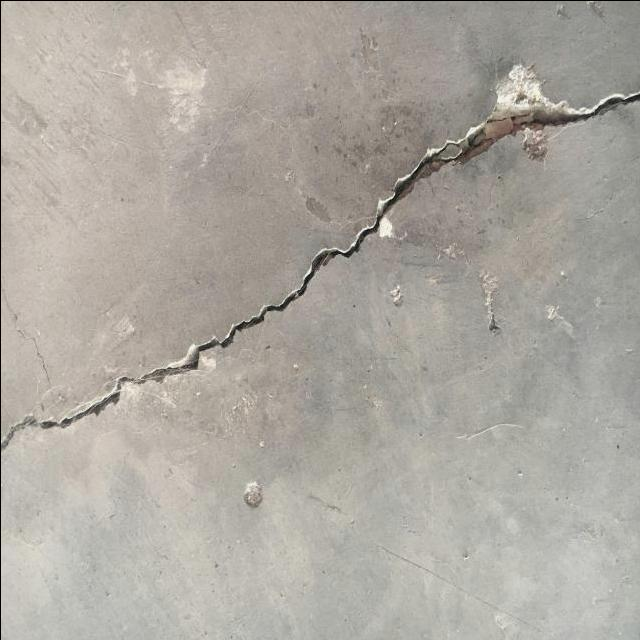SurfaceCrack: (1, 12, 640, 556)
